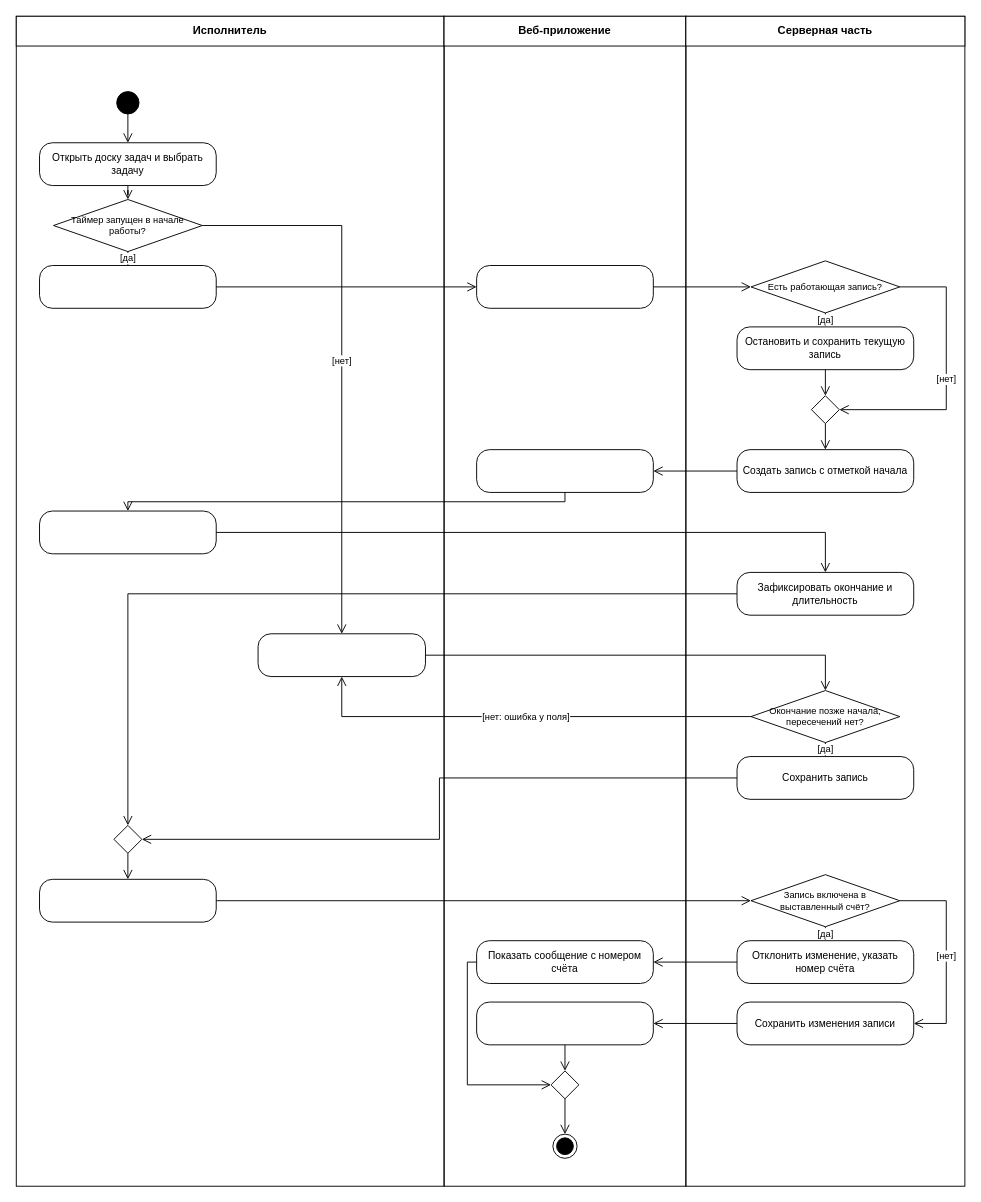
Image size: 981x1202. Some labels were removed from this diagram. The box of each missing label's shape, as (x1, y1, x2, y2) in pixels:
Ввести вручную дату, время начала и окончания: (257, 633, 425, 677)
Выполнить работу и остановить таймер: (39, 510, 216, 554)
Запустить таймер из карточки задачи: (39, 265, 216, 308)
Обновить журнал и итоги за период: (476, 1001, 653, 1045)
Передать запрос запуска таймера: (476, 265, 653, 308)
Показать работающий таймер: (476, 449, 653, 492)
Уточнить описание и признак оплачиваемости: (39, 878, 216, 922)
